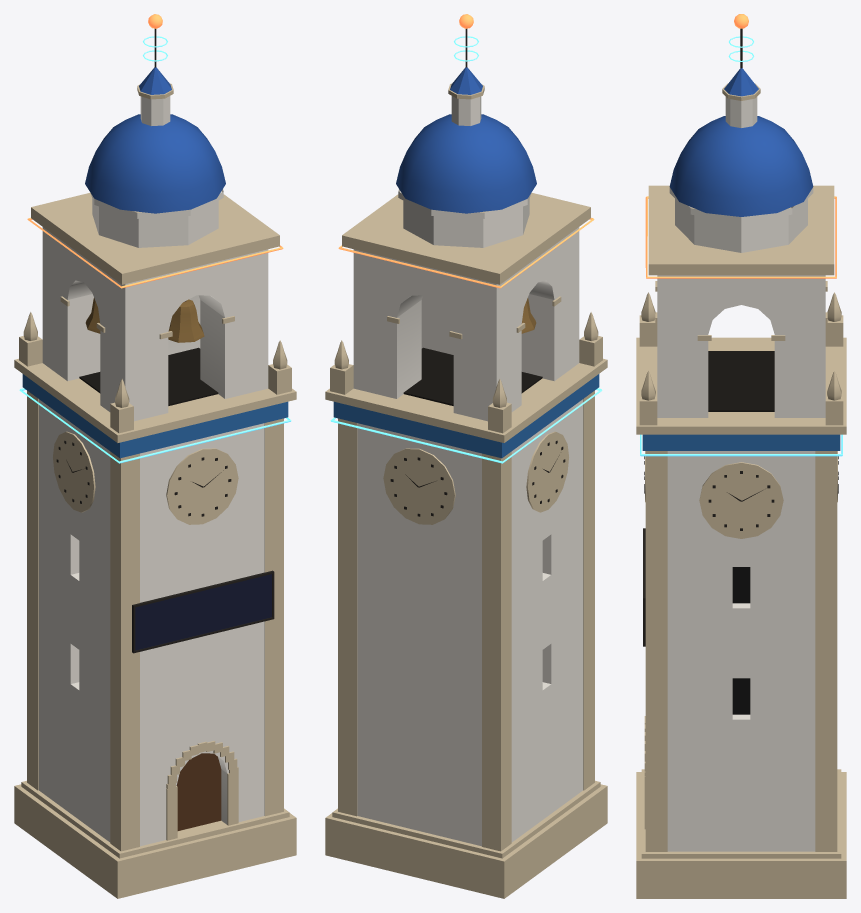
The picture shows the model from 3 angles, left to right: view 1: azimuth 30°, elevation 25°; view 2: azimuth 150°, elevation 25°; view 3: azimuth 270°, elevation 25°; orthographic projection.
Parts seen in each view (by area): view 1: tower.lod1; view 2: tower.lod1; view 3: tower.lod1.
Boxes of the visible parts, box(x1,y1,x2,y2) form: tower.lod1: box(14, 14, 296, 898); tower.lod1: box(325, 14, 607, 898); tower.lod1: box(636, 14, 846, 898).
Size of the model in its own units: 6 by 26.42 by 6.
